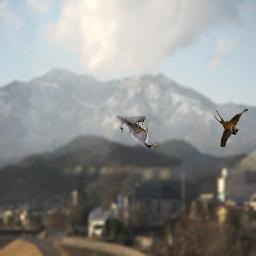Cuckoo: (117, 116, 157, 148)
Swallow: (214, 107, 248, 147)
